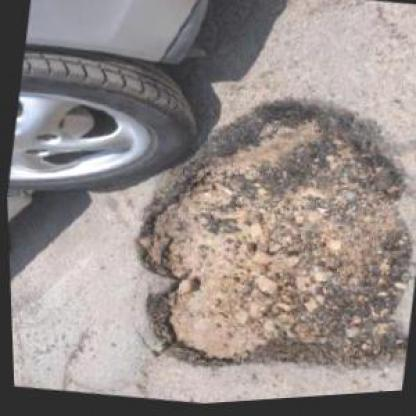pothole: (106, 72, 414, 406)
